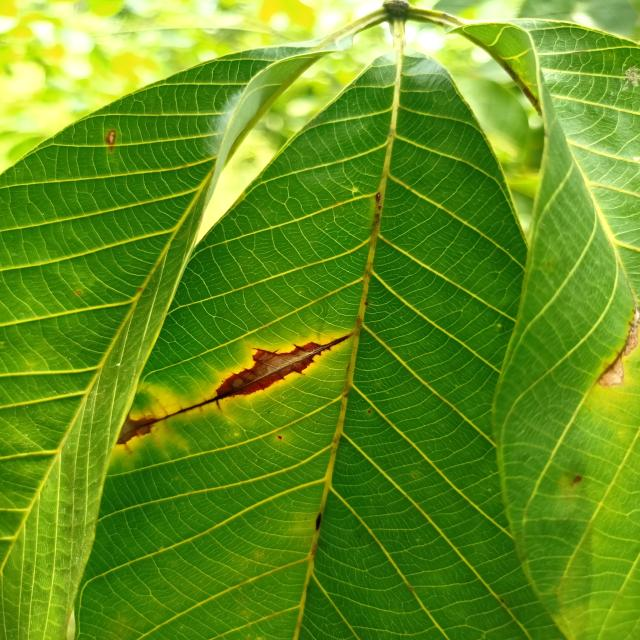Corynespora: (157, 333, 354, 423), (594, 313, 640, 388)
Leaf-Blight: (115, 416, 156, 444), (598, 361, 624, 386)
